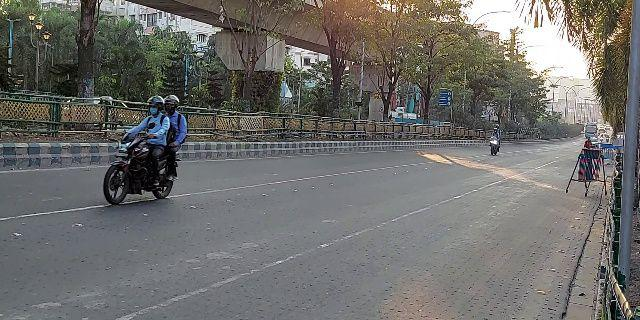Motorbike: (100, 93, 187, 208), (486, 122, 504, 158)
